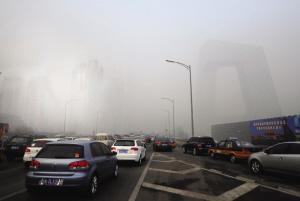car: (24, 140, 119, 198), (247, 142, 300, 175), (21, 137, 67, 166), (207, 137, 255, 163), (108, 138, 147, 166), (4, 135, 39, 161), (180, 136, 217, 156), (94, 132, 116, 153), (151, 136, 173, 152)
